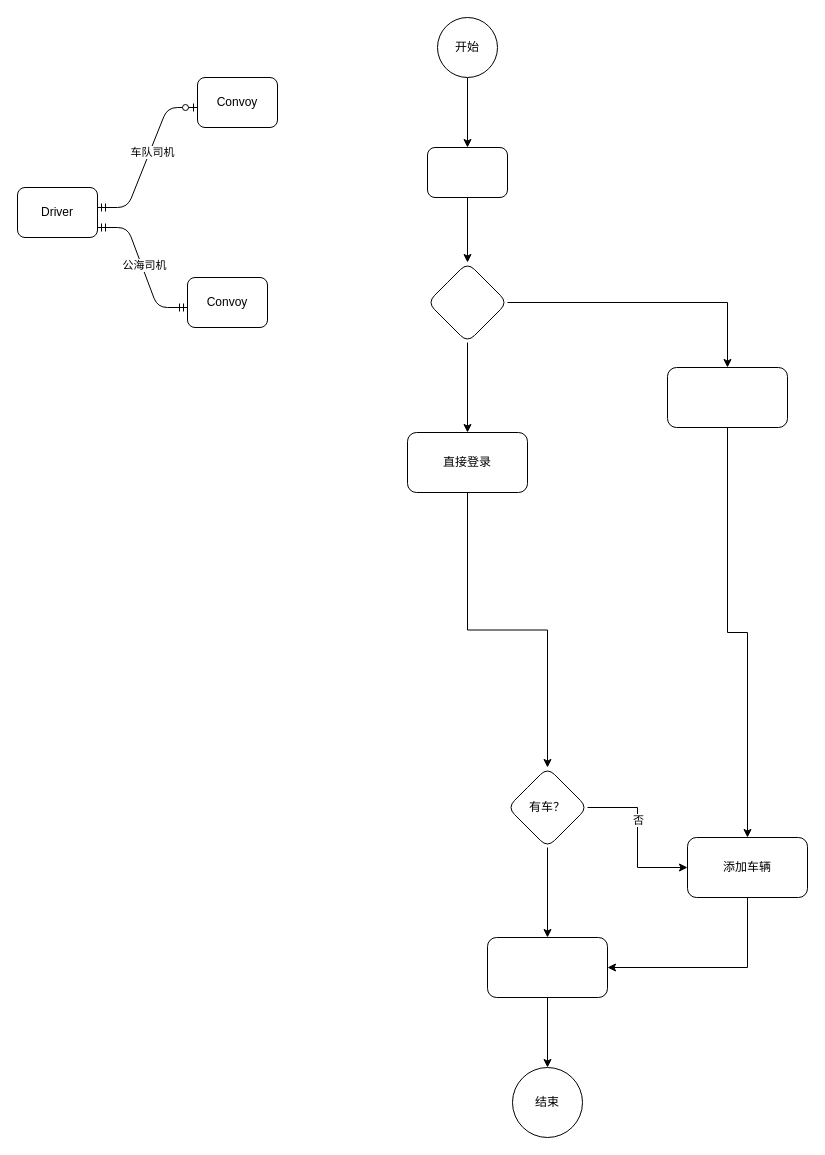
Image size: 825x1155. Some labels were removed from this diagram. Each missing label, with the box of its shape:
司机登录: (426, 146, 508, 198)
手机号 存在不？: (426, 262, 508, 342)
注册，手机号: (666, 366, 788, 428)
进入系统？: (486, 936, 608, 998)
